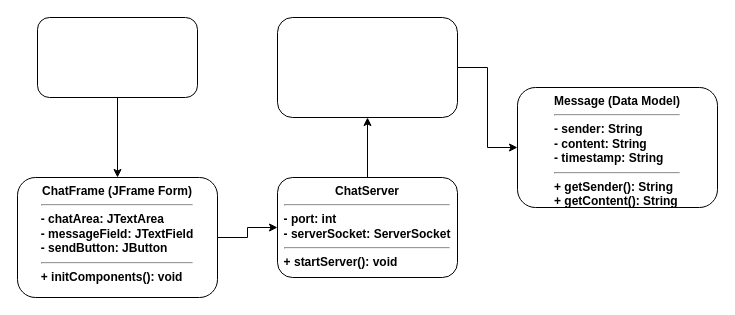
Some shapes in this 735 by 315 pixel diagram are drawn without their labels. Here are the shapes that lost their labels. From the top down, the centre of each, then its label:
At (x=117, y=57): "Main - main(args: String[]): void".
At (x=367, y=67): "ChatClient - serverIp: String - socket: Socket + connect(): void".
